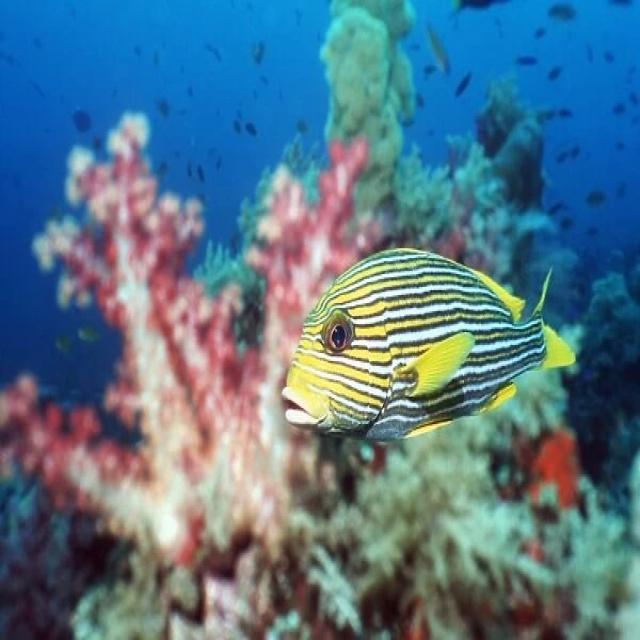RibbonedSweetlips: (279, 244, 576, 444)
